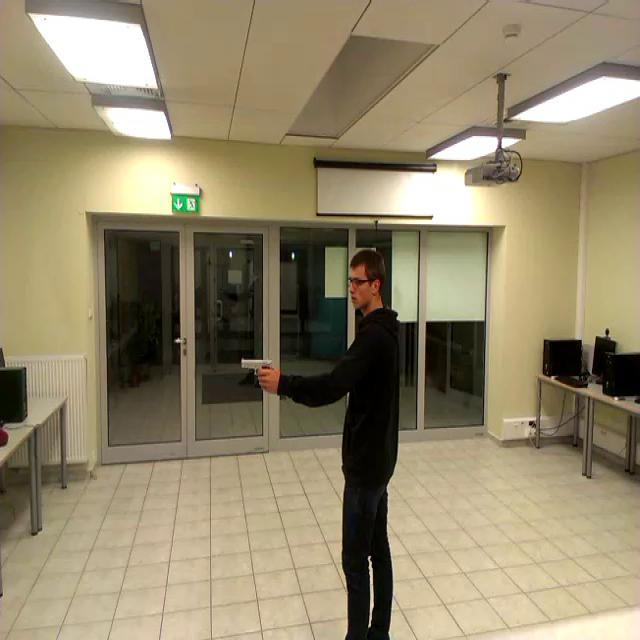Gun: (242, 358, 273, 388)
